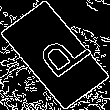P_SW: (22, 25, 88, 85)
